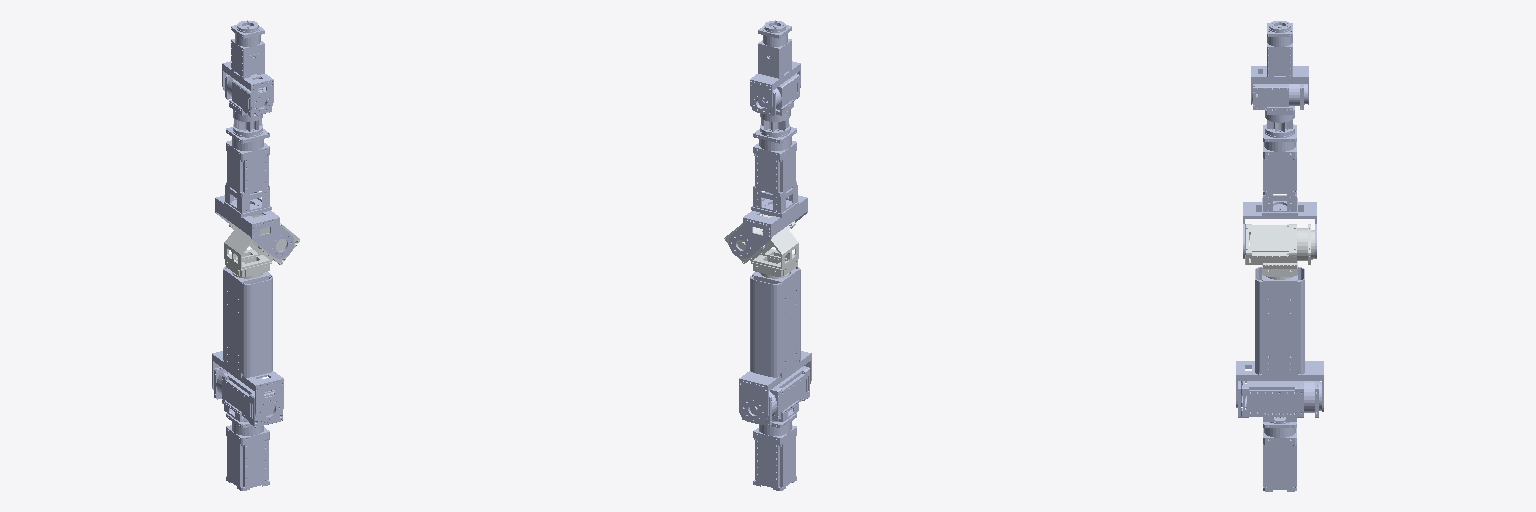
URDF robot description (pro7a):
<?xml version="1.0" ?>

<robot name="pro7a" xmlns:xacro="http://www.ros.org/wiki/xacro">
  <!-- world -->
  <link name="base_link" />

  <joint name="world_fixed" type="fixed">
    <origin xyz="0 0 0" rpy="0 0 0"/>
    <parent link="base_link"/>
    <child link="link1"/>
  </joint>
  
  <!-- link 1 -->
  <link name="link1">
    <inertial>
      <origin xyz="0.00023037 4.1147E-06 0.062192" rpy="0 0 0" />
      <mass value="0.3236" />
      <inertia ixx="0.00045547" ixy="-3.555E-10" ixz="-4.1821E-06"
                                iyy="0.00045506" iyz="-7.0827E-08"
                                                 izz="0.00014322" />
    </inertial>
    <visual>
      <origin xyz="0 0 0" rpy="0 0 0" />
      <geometry>
        <mesh filename="package://iclab7a_description/meshes/link1.STL" />
      </geometry>
      <material name="">
        <color rgba="0.79216 0.81961 0.93333 1" />
      </material>
    </visual>
    <collision>
      <origin xyz="0 0 0" rpy="0 0 0" />
      <geometry>
        <mesh filename="package://iclab7a_description/meshes/link1.STL" />
      </geometry>
    </collision>
  </link>

  <!-- joint 1 -->
  <joint name="joint1" type="revolute">
    <origin xyz="0 0 0.126" rpy="0 0 0" />
    <parent link="link1" />
    <child link="link2" />
    <axis xyz="0 0 1" />
    <limit effort="1000" lower="-2.094395102" upper="2.094395102" velocity="6.5"/>  <!-- 120 deg -->
  </joint>

  <!-- link 2 -->
  <link name="link2">
    <inertial>
      <origin xyz="-3.76929107556712E-06 0.00149856176218431 0.0318350497406666" rpy="0 0 0" />
      <mass value="0.353299691884094" />
      <inertia ixx="0.000555617877631046" ixy="6.59192901353872E-08" ixz="-1.59267738274392E-09"
                                          iyy="0.00016975294663268"  iyz="4.41190275460319E-06"
                                                                     izz="0.00055175782317523" />
    </inertial>
    <visual>
      <origin xyz="0 0 0" rpy="0 0 0" />
      <geometry>
        <mesh filename="package://iclab7a_description/meshes/link2.STL" />
      </geometry>
      <material name="">
        <color rgba="0.792156862745098 0.819607843137255 0.933333333333333 1" />
      </material>
    </visual>
    <collision>
      <origin xyz="0 0 0" rpy="0 0 0" />
      <geometry>
        <mesh filename="package://iclab7a_description/meshes/link2.STL" />
      </geometry>
    </collision>
  </link>

  <!-- joint 2 -->
  <joint name="joint2" type="revolute">
    <origin xyz="0 -0.072 0.033" rpy="0 0 0" />
    <parent link="link2" />
    <child link="link3" />
    <axis xyz="0 1 0" />
    <limit effort="1000" lower="-1.570796327" upper="1.570796327" velocity="6.5"/>
  </joint>

  <!-- link 3 -->
  <link name="link3">
    <inertial>
      <origin xyz="0.000134697491530555 0.0724327934527482 0.121867308112064" rpy="0 0 0" />
      <mass value="0.500115096713792" />
      <inertia ixx="0.00158332552970238" ixy="-1.29575286259423E-07" ixz="-2.23938470587572E-06"
                                         iyy="0.00139573964507663"   iyz="-2.41296401438077E-05"
                                                                     izz="0.000500665074249818" />
    </inertial>
    <visual>
      <origin xyz="0 0 0" rpy="0 0 0" />
      <geometry>
        <mesh filename="package://iclab7a_description/meshes/link3.STL" />
      </geometry>
      <material name="">
        <color rgba="0.792156862745098 0.819607843137255 0.933333333333333 1" />
      </material>
    </visual>
    <collision>
      <origin xyz="0 0 0" rpy="0 0 0" />
      <geometry>
        <mesh filename="package://iclab7a_description/meshes/link3.STL" />
      </geometry>
    </collision>
  </link>

  <!-- joint 3 -->
  <joint name="joint3" type="revolute">
    <origin xyz="0 0.0720000000000061 0.19331679485759" rpy="0 0 0" />
    <parent link="link3" />
    <child link="link4" />
    <axis xyz="0 0 1" />
    <limit effort="1000" lower="-2.094395102" upper="2.094395102" velocity="6.5"/>
  </joint>

  <!-- link 4 -->
  <link name="link4">
    <inertial>
      <origin xyz="0.0170537437777087 -4.40221697032036E-05 0.0651759461358195" rpy="0 0 0" />
      <mass value="0.494453076498356" />
      <inertia ixx="0.000987633522125534" ixy="2.08548040925696E-06" ixz="0.000237587569668193"
                                          iyy="0.000891463959164735" iyz="1.76162569274256E-06"
                                                                     izz="0.000533429773642554" />
    </inertial>
    <visual>
      <origin xyz="0 0 0" rpy="0 0 0" />
      <geometry>
        <mesh filename="package://iclab7a_description/meshes/link4.STL" />
      </geometry>
      <material name="">
        <color rgba="0.894117647058823 0.913725490196078 0.929411764705882 1" />
      </material>
    </visual>
    <collision>
      <origin xyz="0 0 0" rpy="0 0 0" />
      <geometry>
        <mesh filename="package://iclab7a_description/meshes/link4.STL" />
      </geometry>
    </collision>
  </link>

  <!-- joint 4 -->
  <joint name="joint4" type="revolute">
    <origin xyz="0.0299999998726757 -0.0600000000000077 0.0929999930015371" rpy="4.09444829912538E-16 -1.51509034294625E-31 -1.75554406335096E-14" />
    <parent link="link4" />
    <child link="link5" />
    <axis xyz="0 -1 0" />
    <limit effort="1000" lower="-3.141592654" upper="0.65" velocity="6.5"/>
  </joint>

  <!-- link 5 -->
  <link name="link5">
    <inertial>
      <origin xyz="-0.0294640844960397 0.0600725360047954 0.118569552558269" rpy="0 0 0" />
      <mass value="0.355062206783252" />
      <inertia ixx="0.00101806650050264" ixy="7.58840562780336E-07" ixz="-2.04852726952741E-05"
                                         iyy="0.000936775177213333" iyz="-3.05373366212602E-06"
                                                                    izz="0.000271920777523049" />
    </inertial>
    <visual>
      <origin xyz="0 0 0" rpy="0 0 0" />
      <geometry>
        <mesh filename="package://iclab7a_description/meshes/link5.STL" />
      </geometry>
      <material name="">
        <color rgba="0.792156862745098 0.819607843137255 0.933333333333333 1" />
      </material>
    </visual>
    <collision>
      <origin xyz="0 0 0" rpy="0 0 0" />
      <geometry>
        <mesh filename="package://iclab7a_description/meshes/link5.STL" />
      </geometry>
    </collision>
  </link>

  <!-- joint 5 -->
  <joint name="joint5" type="revolute">
    <origin xyz="-0.0300000000000022 0.0600000000000028 0.195000000000001" rpy="-4.09444829912538E-16 7.33949343852163E-30 1.75554406335096E-14" />
    <parent link="link5" />
    <child link="link6" />
    <axis xyz="0 0 1" />
    <limit effort="1000" lower="-2.094395102" upper="2.094395102" velocity="6.5"/>
  </joint>

  <!-- link 6 -->
  <link name="link6">
    <inertial>
      <origin xyz="-9.26539556189709E-09 -0.000998521535041735 0.050612509266255" rpy="0 0 0" />
      <mass value="0.200934163479789" />
      <inertia ixx="0.000183336081351766" ixy="8.15054964074656E-11" ixz="-2.3042584637513E-11"
                                          iyy="0.000123111331915084" iyz="-1.9562649433203E-06"
                                                                     izz="0.000117165946585555" />
    </inertial>
    <visual>
      <origin xyz="0 0 0" rpy="0 0 0" />
      <geometry>
        <mesh filename="package://iclab7a_description/meshes/link6.STL" />
      </geometry>
      <material name="">
        <color rgba="0.792156862745098 0.819607843137255 0.933333333333333 1" />
      </material>
    </visual>
    <collision>
      <origin xyz="0 0 0" rpy="0 0 0" />
      <geometry>
        <mesh filename="package://iclab7a_description/meshes/link6.STL" />
      </geometry>
    </collision>
  </link>

  <!-- joint 6 -->
  <joint name="joint6" type="revolute">
    <origin xyz="0 -0.0479999999999998 0.0630000000000001" rpy="0 0 0" />
    <parent link="link6" />
    <child link="link7" />
    <axis xyz="0 -1 0" />
    <limit effort="1000" lower="-1.570796327" upper="1.570796327" velocity="6.5"/>
  </joint>

  <!-- link 7 -->
  <link name="link7">
    <inertial>
      <origin xyz="-3.49720252756924E-15 0.0483543396652883 0.0685153969090133" rpy="0 0 0" />
      <mass value="0.162169114093039" />
      <inertia ixx="0.000198792394034556" ixy="1.38902314858319E-18" ixz="-3.9020224466132E-18"
                                          iyy="0.000166786781121315" iyz="-2.10062730809405E-06"
                                                                     izz="8.0543855039644E-05" />
    </inertial>
    <visual>
      <origin xyz="0 0 0" rpy="0 0 0" />
      <geometry>
        <mesh filename="package://iclab7a_description/meshes/link7.STL" />
      </geometry>
      <material name="">
        <color rgba="0.792156862745098 0.819607843137255 0.933333333333333 1" />
      </material>
    </visual>
    <collision>
      <origin xyz="0 0 0" rpy="0 0 0" />
      <geometry>
        <mesh filename="package://iclab7a_description/meshes/link7.STL" />
      </geometry>
    </collision>
  </link>

</robot>

--- Facts derived from the render (not from the file) ---
The picture shows the robot from 3 angles, left to right: view 1: azimuth 30°, elevation 25°; view 2: azimuth 150°, elevation 25°; view 3: azimuth 270°, elevation 25°; orthographic projection.
Robot: pro7a — 8 links, 7 joints (6 revolute, 1 fixed); root link base_link; default pose: every joint at zero.
Links seen in each view (by area): view 1: link3, link5, link7, link1, link4, link2, link6; view 2: link3, link5, link7, link1, link4, link2, link6; view 3: link3, link5, link4, link2, link1, link7, link6.
Boxes of the visible links, bbox=[...] form: link3: bbox=[212, 266, 283, 419]; link5: bbox=[215, 127, 293, 258]; link7: bbox=[222, 20, 273, 113]; link1: bbox=[226, 413, 269, 490]; link4: bbox=[224, 214, 299, 278]; link2: bbox=[214, 367, 282, 427]; link6: bbox=[225, 75, 271, 135]; link3: bbox=[739, 266, 811, 424]; link5: bbox=[729, 127, 807, 258]; link7: bbox=[750, 20, 800, 113]; link1: bbox=[753, 413, 796, 490]; link4: bbox=[724, 214, 798, 278]; link2: bbox=[742, 366, 809, 425]; link6: bbox=[752, 73, 799, 135]; link3: bbox=[1236, 267, 1323, 411]; link5: bbox=[1243, 125, 1316, 258]; link4: bbox=[1245, 224, 1314, 279]; link2: bbox=[1238, 381, 1321, 421]; link1: bbox=[1263, 422, 1296, 491]; link7: bbox=[1251, 21, 1308, 104]; link6: bbox=[1252, 84, 1307, 135].
Bounding box of the posed robot: 0.0968 × 0.144 × 0.8263 m (x, y, z).
Meshes: 7 distinct files referenced, 7 mesh visuals loaded (7 binary STL).